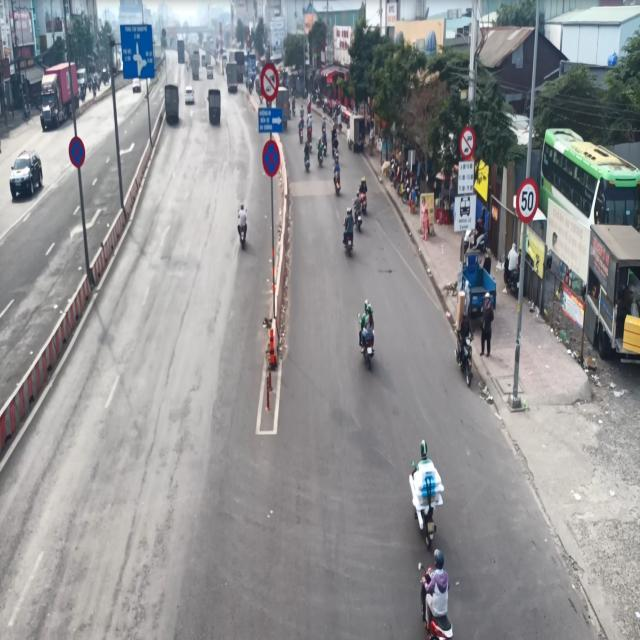motor: (406, 434, 443, 539), (419, 555, 456, 640), (356, 294, 379, 370), (340, 201, 355, 261), (234, 195, 246, 254)
